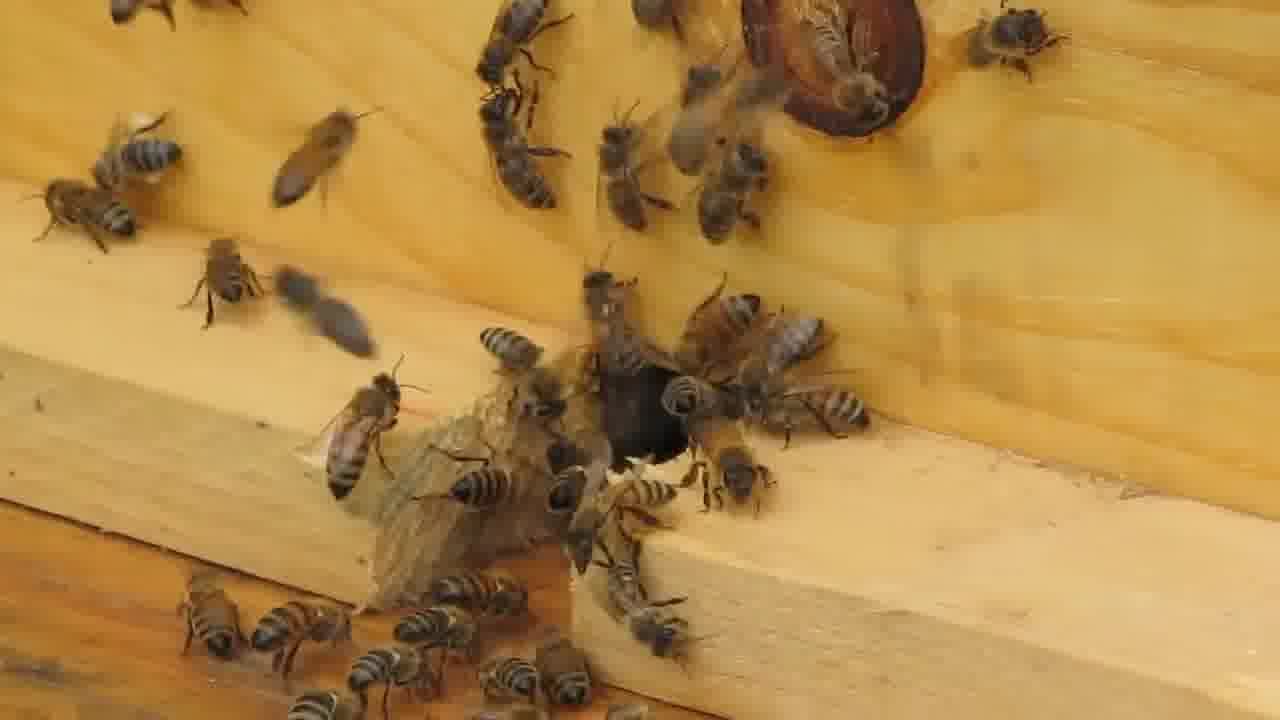pollen: (87, 111, 184, 190)
